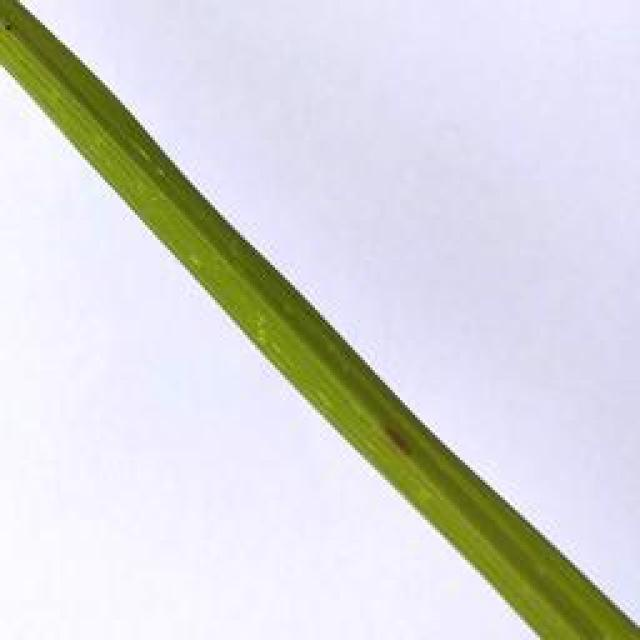Brown_Spot: (372, 418, 417, 468)
